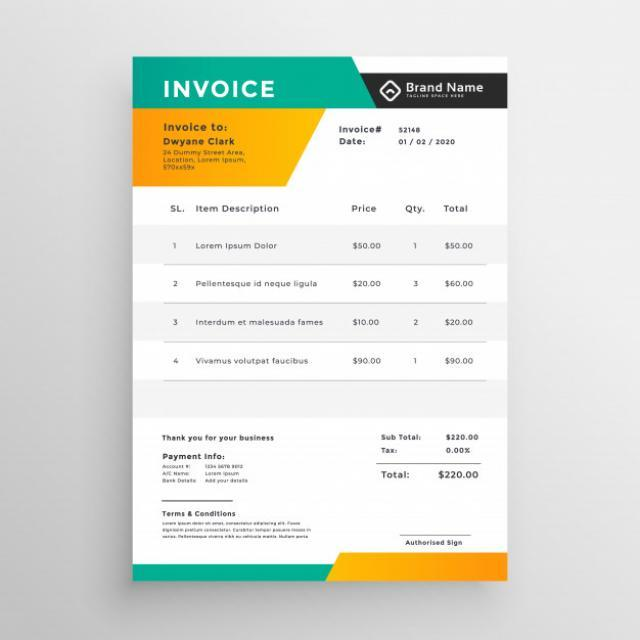customer_address: (161, 148, 251, 176)
customer_name: (159, 132, 244, 146)
invoice_date: (396, 135, 468, 150)
invoice_number: (394, 125, 442, 134)
invoice_subtotal: (441, 431, 487, 443)
invoice_total: (432, 466, 488, 483)
item_description: (190, 238, 326, 376)
item_quantity: (404, 237, 428, 372)
item_total_price: (438, 240, 481, 380)
item_unit_price: (343, 238, 390, 384)
supplier_name: (403, 77, 485, 95)
tax_rate: (441, 446, 481, 460)
